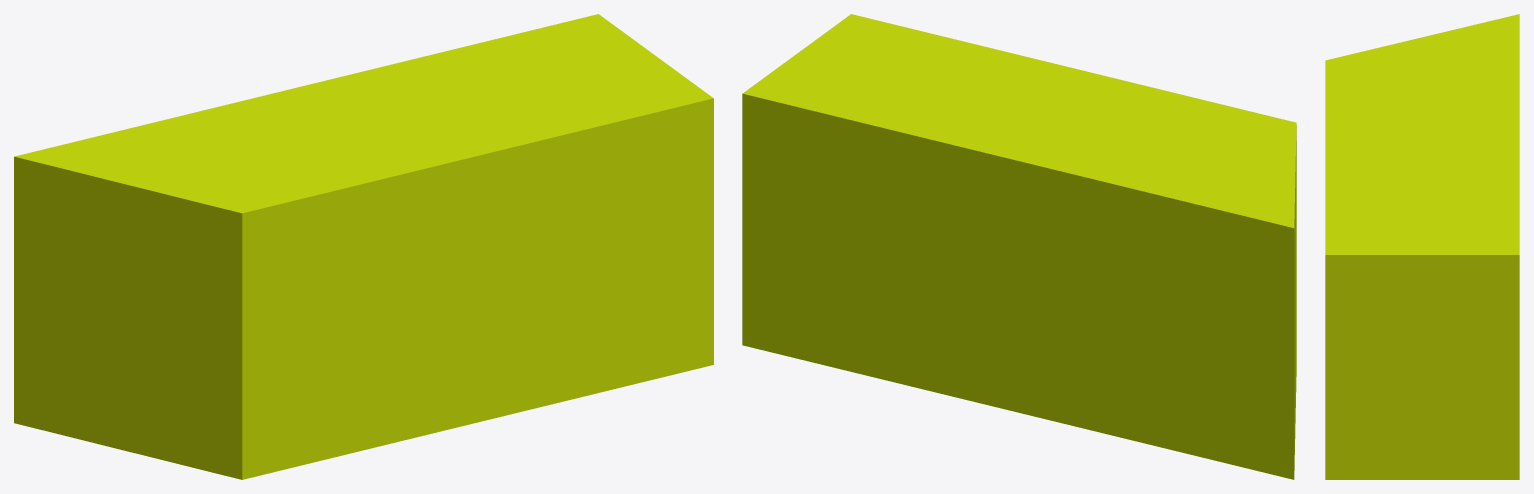
File: Launcher_Exit.fbx
The picture shows the model from 3 angles, left to right: view 1: azimuth 30°, elevation 25°; view 2: azimuth 150°, elevation 25°; view 3: azimuth 270°, elevation 25°; orthographic projection. The views are drawn at different scales.
Visible parts, largest first — view 1: Launcher_Exit; view 2: Launcher_Exit; view 3: Launcher_Exit.
Boxes of the visible parts, box(x1,y1,x2,y2) form: Launcher_Exit: box(14, 14, 713, 479); Launcher_Exit: box(742, 14, 1296, 479); Launcher_Exit: box(1325, 14, 1519, 479).
Bounding box in the file's own units: 9.38 × 4.09 × 3.2.
